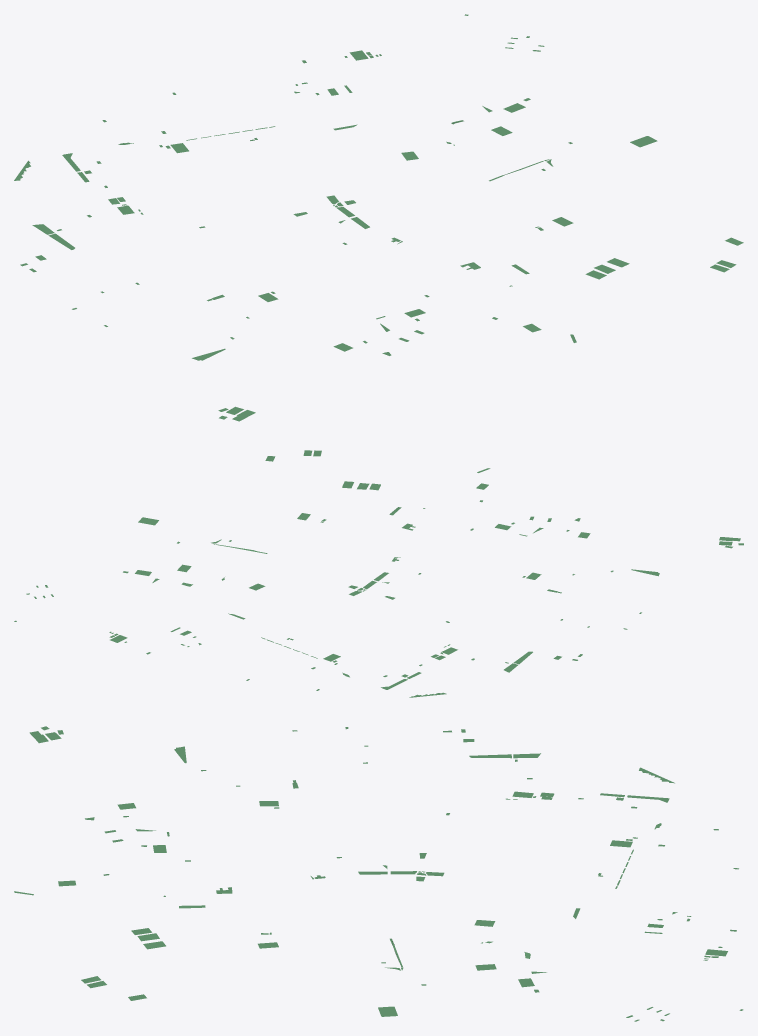
The model's file is green.glb.
The picture shows the model from 3 angles, top to bottom: view 1: azimuth 30°, elevation 25°; view 2: azimuth 150°, elevation 25°; view 3: azimuth 270°, elevation 25°; orthographic projection. The views are drawn at different scales.
Parts seen in each view (by area): view 1: green; view 2: green; view 3: green.
Boxes of the visible parts, x1,y1,x2,y2 form: green: (14,14,743,421); green: (14,450,743,697); green: (14,726,743,1021).
Size of the model in its own units: 3820 by 60.74 by 3857.
